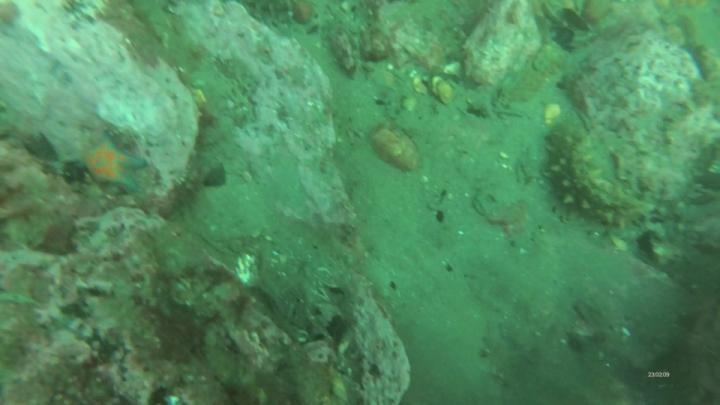holothurian: (547, 125, 646, 228)
starfish: (81, 138, 147, 195)
